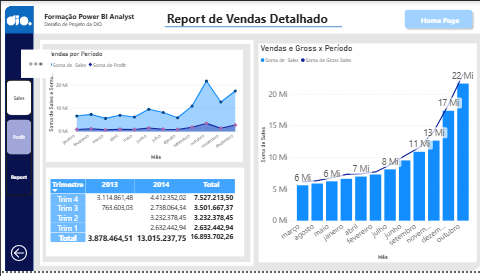

Layout of this report page (visuals, bound fields, positions):
{"tool":"powerbi","page":{"name":"Report","canvas":[1280,720],"ordinal":2},"visuals":[{"type":"group","id":"g1","title":"Layout","box":[10,12.8,1270,707],"z":0},{"type":"shape","box":[10,12.8,1270,707],"z":0,"group":"g1"},{"type":"shape","box":[437.3,51.5,473,37.1],"z":0,"group":"g3"},{"type":"shape","box":[103.6,103.6,569.9,601.9],"z":0,"group":"g2"},{"type":"shape","box":[10.1,13.4,77.2,706.3],"z":1000,"group":"g1"},{"type":"textbox","box":[438.7,21.3,470.2,52.2],"z":1000,"group":"g3"},{"type":"lineClusteredColumnComboChart","title":"Vendas e Gross x Período","fields":{"Category":["financials.Date.Variation.Hierarquia de datas.Mês"],"Y":["Sum(financials. Sales)"],"Y2":["Sum(financials.Gross Sales)"]},"box":[684.2,114.3,580.6,582.1],"z":1000},{"type":"shape","box":[110.3,114.6,554.7,582.1],"z":1000,"group":"g2"},{"type":"shape","box":[10.1,13.4,77.2,73.8],"z":2000,"group":"g1"},{"type":"group","id":"g2","title":"Detalhes venda x profit","box":[103.6,103.6,569.9,601.9],"z":2000},{"type":"shape","box":[120.1,443.5,528.4,238.2],"z":2000,"group":"g2"},{"type":"image","title":"logo_dio","box":[10.1,18.4,77.2,62.1],"z":3000,"group":"g1"},{"type":"textbox","title":"Título do report","box":[109.7,22.9,377.9,64],"z":3000},{"type":"areaChart","title":"Vendas por Período","fields":{"Category":["financials.Date.Variation.Hierarquia de datas.Trimestre","financials.Date.Variation.Hierarquia de datas.Mês"],"Y":["Sum(financials. Sales)","Sum(financials.Profit)"]},"box":[120.9,128.6,524.2,298.7],"z":3000,"group":"g2"},{"type":"shape","box":[87,12.8,1193.1,74.1],"z":4000,"group":"g1"},{"type":"group","id":"g3","title":"Sales report","box":[437.3,21.3,472.4,67],"z":4000},{"type":"pivotTable","fields":{"Columns":["financials.Date.Variation.Hierarquia de datas.Ano"],"Rows":["financials.Date.Variation.Hierarquia de datas.Trimestre"],"Values":["Sum(financials.Profit)"]},"box":[126,468.4,509.5,189.9],"z":4000,"group":"g2"},{"type":"actionButton","box":[20.6,622.4,55.6,96.9],"z":6000},{"type":"actionButton","title":"Home Page","box":[1064.7,14.6,199.6,69.2],"z":9000,"group":"g4"},{"type":"textbox","box":[1101,33.7,134.4,34.6],"z":9500,"group":"g4"},{"type":"group","id":"g4","title":"Botão home","box":[1064.7,14.6,199.6,69.2],"z":9501},{"type":"pageNavigator","box":[13.4,211.1,69.9,306.2],"z":9503}]}

Visuals, with their boxes in screenshot pixels (x1, y1, x2, y2), scaled from the page's 1280x720 canvas onto the 480x276 screenshot:
"Layout" group: 4:5:479:275
shape: 4:5:479:275
shape: 164:20:341:34
shape: 39:40:253:270
shape: 4:5:33:275
textbox: 165:8:341:28
"Vendas e Gross x Período" lineClusteredColumnComboChart: 257:44:474:267
shape: 41:44:249:267
shape: 4:5:33:33
"Detalhes venda x profit" group: 39:40:253:270
shape: 45:170:243:261
"logo_dio" image: 4:7:33:31
"Título do report" textbox: 41:9:183:33
"Vendas por Período" areaChart: 45:49:242:164
shape: 33:5:479:33
"Sales report" group: 164:8:341:34
pivotTable - financials.Date.Variation.Hierarquia de datas.Ano x financials.Date.Variation.Hierarquia de datas.Trimestre: 47:180:238:252
actionButton: 8:239:29:275
"Home Page" actionButton: 399:6:474:32
textbox: 413:13:463:26
"Botão home" group: 399:6:474:32
pageNavigator: 5:81:31:198
